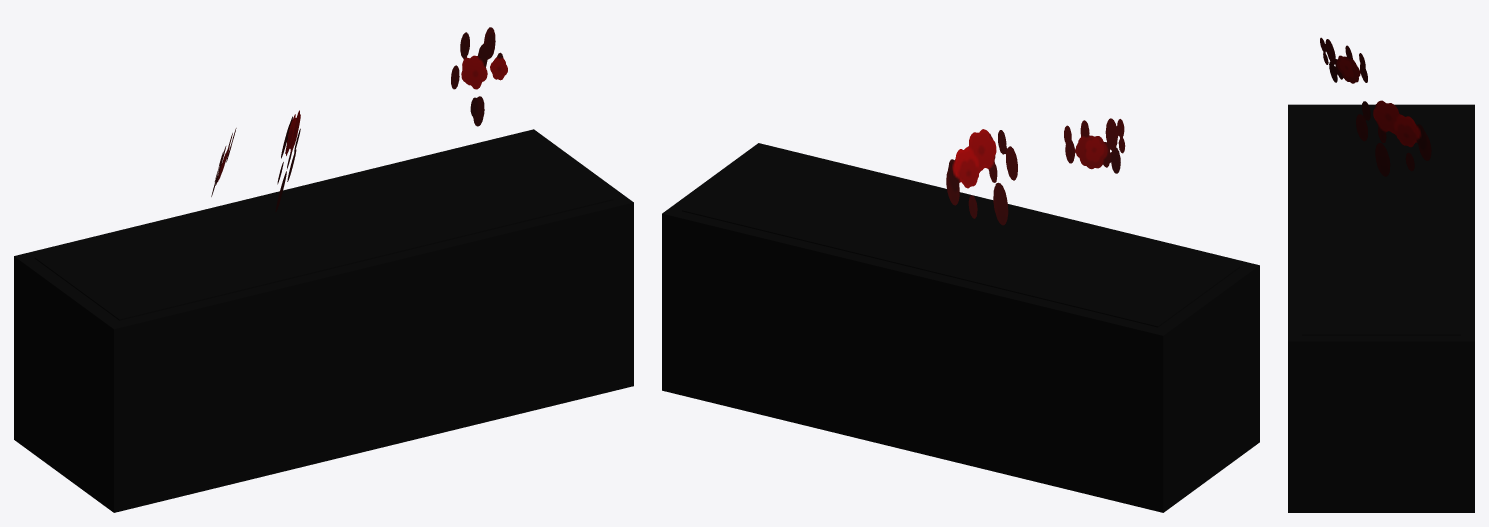
The model's file is prop_haven_planter_a_lod2.glb.
The picture shows the model from 3 angles, left to right: view 1: azimuth 30°, elevation 25°; view 2: azimuth 150°, elevation 25°; view 3: azimuth 270°, elevation 25°; orthographic projection. The views are drawn at different scales.
Visible parts, largest first — view 1: prop_haven_planter_a_lod2; view 2: prop_haven_planter_a_lod2; view 3: prop_haven_planter_a_lod2.
Boxes of the visible parts, x1=… form: prop_haven_planter_a_lod2: x1=14, y1=27, x2=633, y2=512; prop_haven_planter_a_lod2: x1=662, y1=118, x2=1259, y2=512; prop_haven_planter_a_lod2: x1=1288, y1=37, x2=1474, y2=512.
Size of the model in its own units: 1.2 by 0.7839 by 0.4.
Materials: 1 (1 with a texture image).
